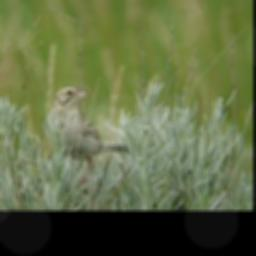Sparrow: (39, 82, 134, 192)
